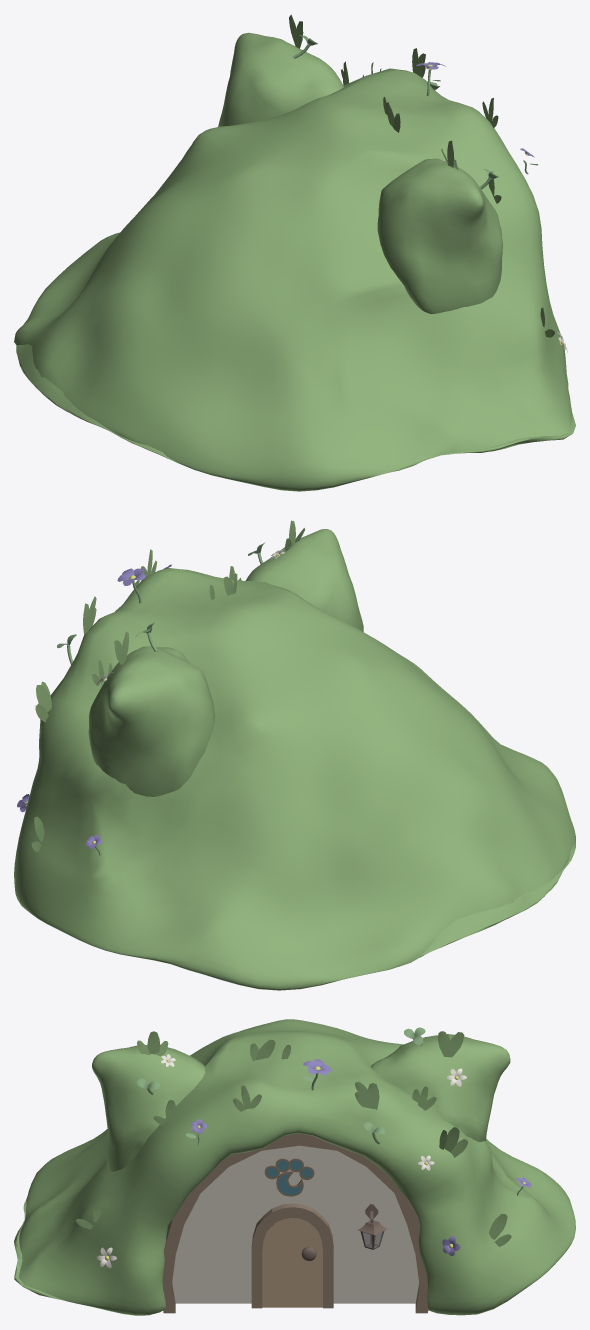
The model's file is Casa_v4.fbx.
3 renders of one model, top to bottom at view 1: azimuth 30°, elevation 25°; view 2: azimuth 150°, elevation 25°; view 3: azimuth 270°, elevation 25°, orthographic. The views are drawn at different scales.
Parts seen in each view (by area): view 1: Casa_pasto, Casa_Oreja, Casa_Oreja1; view 2: Casa_pasto, Casa_Oreja1, Casa_Oreja; view 3: Casa_pasto, Pared, Casa_Oreja1, Casa_Oreja, Puerta, Techo1, Puerta1.
Part boxes in pixels (x1,y1,x2,y2): Casa_pasto: (14,68,575,491); Casa_Oreja: (377,158,502,313); Casa_Oreja1: (218,32,343,126); Casa_pasto: (14,568,575,990); Casa_Oreja1: (88,646,215,796); Casa_Oreja: (245,529,363,631); Casa_pasto: (14,1019,575,1315); Pared: (172,1145,418,1303); Casa_Oreja1: (370,1034,510,1141); Casa_Oreja: (92,1045,205,1171); Puerta: (262,1217,322,1307); Techo1: (162,1133,428,1313); Puerta1: (251,1203,333,1308).
Size of the model in its own units: 12.71 by 7.67 by 15.68.
